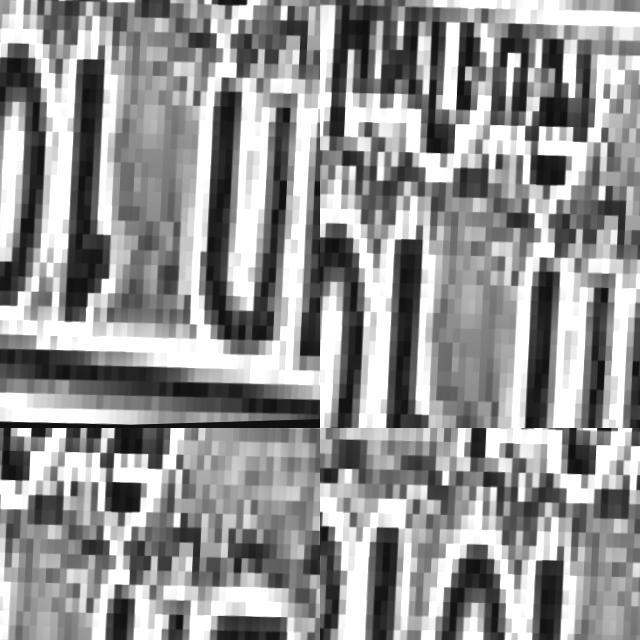license-plate: (0, 0, 320, 428), (320, 0, 640, 428), (320, 428, 640, 640)
